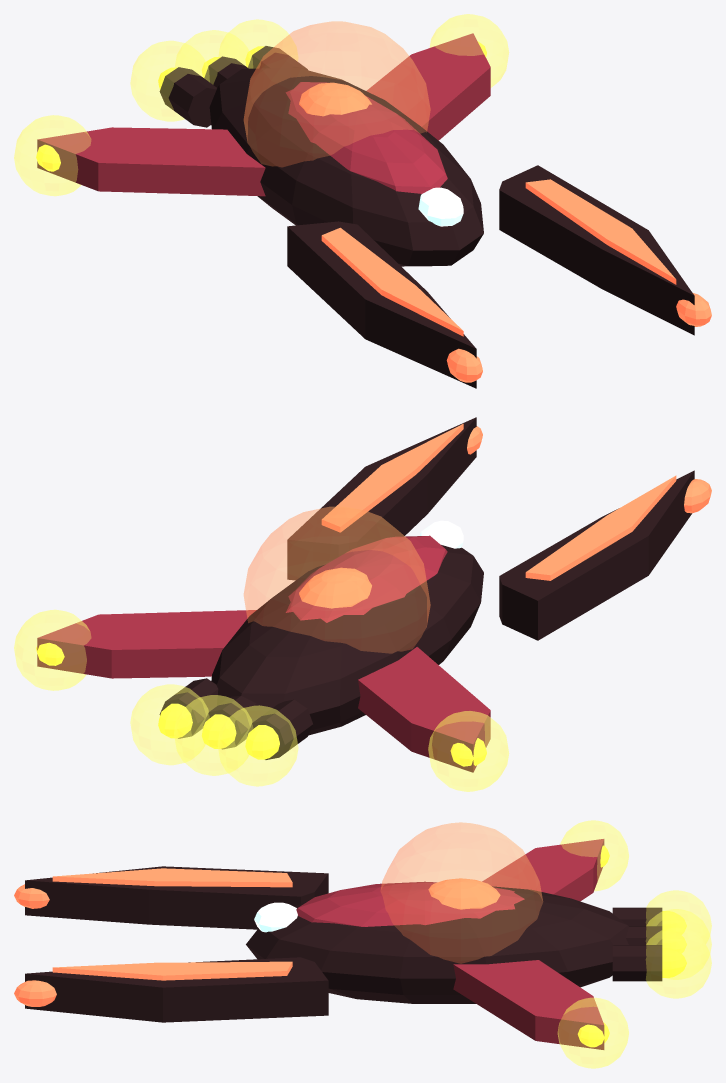
Rendered from enemy_dread.glb.
3 renders of one model, top to bottom at view 1: azimuth 30°, elevation 25°; view 2: azimuth 150°, elevation 25°; view 3: azimuth 270°, elevation 25°, orthographic. The views are drawn at different scales.
Parts seen in each view (by area): view 1: enemy_dread; view 2: enemy_dread; view 3: enemy_dread.
Boxes of the visible parts, box(x1,y1,x2,y2) form: enemy_dread: box(14, 14, 711, 388); enemy_dread: box(14, 417, 711, 791); enemy_dread: box(14, 820, 711, 1068).
Bounding box in the file's own units: 1.78 × 0.66 × 2.53.
